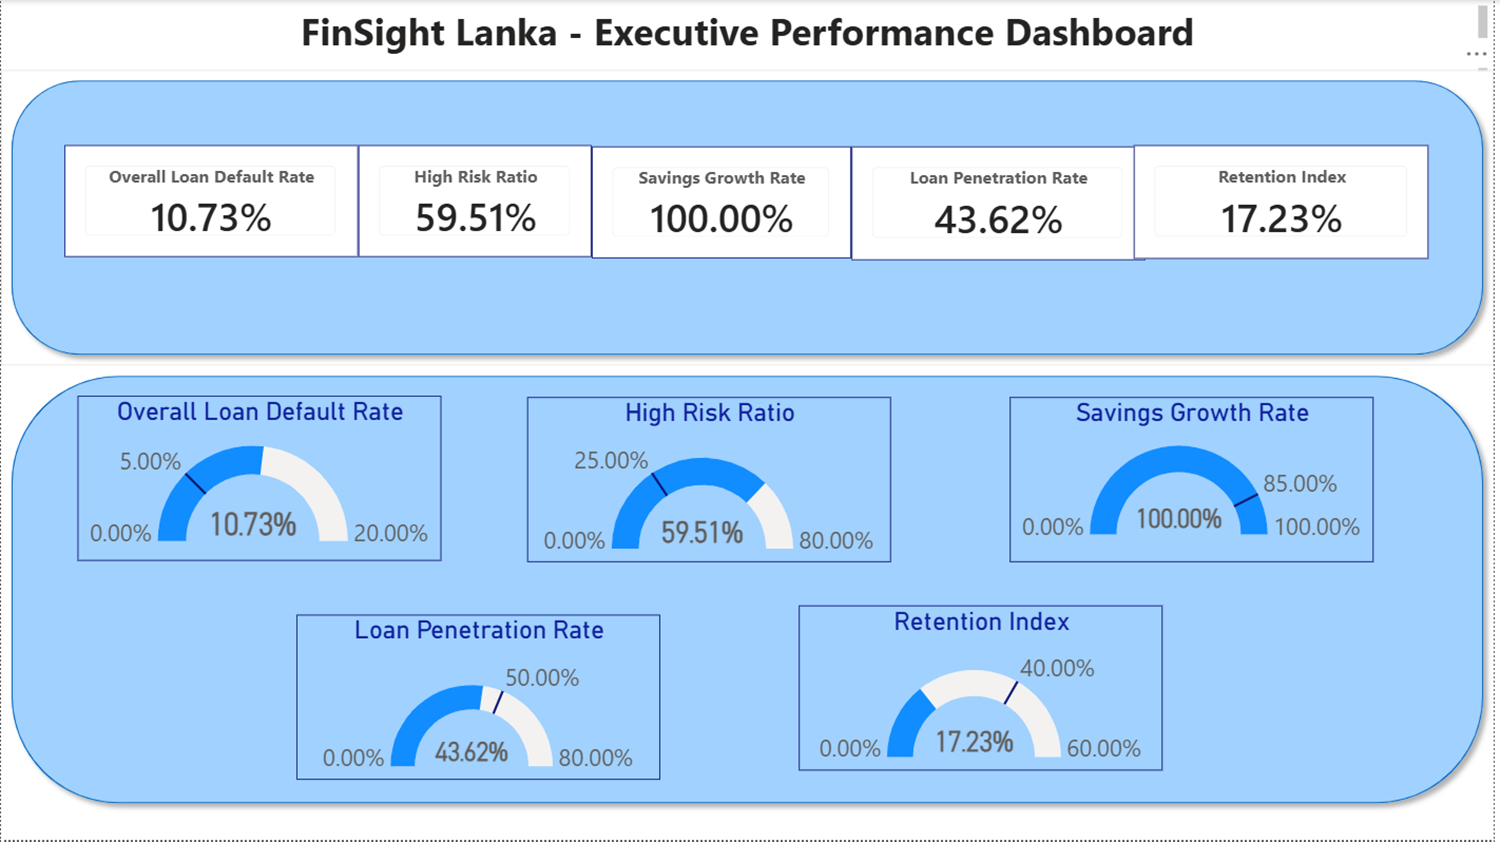

The page's visual inventory and layout, read from the dashboard file:
{"tool":"powerbi","page":{"name":"Executive Summary","canvas":[1280,720],"ordinal":0},"visuals":[{"type":"textbox","box":[9,0,1270.9,67.8],"z":0},{"type":"cardVisual","fields":{"Data":["Cleaned_FinSightLanka_Data.Overall Loan Default Rate"]},"box":[54.3,124.1,251.8,96.2],"z":0,"group":"g2"},{"type":"gauge","fields":{"Y":["Cleaned_FinSightLanka_Data.Overall Loan Default Rate"]},"box":[65.6,339.2,312.1,141.3],"z":0,"group":"g1"},{"type":"cardVisual","fields":{"Data":["Cleaned_FinSightLanka_Data.High Risk Ratio"]},"box":[306.1,124.1,200.4,96.2],"z":1000,"group":"g2"},{"type":"shape","box":[0,313.2,1279.9,384.4],"z":1000},{"type":"gauge","fields":{"Y":["Cleaned_FinSightLanka_Data.High Risk Ratio"]},"box":[451.2,340.3,312.1,141.3],"z":1000,"group":"g1"},{"type":"cardVisual","fields":{"Data":["Cleaned_FinSightLanka_Data.Savings Growth Rate"]},"box":[506.5,125.4,222.8,96.2],"z":2000,"group":"g2"},{"type":"group","id":"g1","title":"Background","box":[65.6,339.2,1113.7,327.9],"z":2000},{"type":"gauge","fields":{"Y":["Cleaned_FinSightLanka_Data.Loan Penetration Rate"]},"box":[253.3,526.9,312.1,141.3],"z":2000,"group":"g1"},{"type":"shape","box":[0,59.9,1279.9,253.3],"z":3000},{"type":"cardVisual","fields":{"Data":["Cleaned_FinSightLanka_Data.Loan Penetration Rate"]},"box":[729.2,125.4,251.8,97.5],"z":3000,"group":"g2"},{"type":"gauge","fields":{"Y":["Cleaned_FinSightLanka_Data.Retention Index"]},"box":[684.1,519,312.1,141.3],"z":3000,"group":"g1"},{"type":"group","id":"g2","title":"head","box":[54.3,124.1,1171.4,99.3],"z":4000},{"type":"cardVisual","fields":{"Data":["Cleaned_FinSightLanka_Data.Retention Index"]},"box":[971.8,124.1,253.1,97.5],"z":4000,"group":"g2"},{"type":"gauge","fields":{"Y":["Cleaned_FinSightLanka_Data.Savings Growth Rate"]},"box":[865,340.3,312.1,141.3],"z":4000,"group":"g1"}]}

Visuals, with their boxes in screenshot pixels (x1, y1, x2, y2), scaled from the page's 1280x720 canvas onto the 1500x842 screenshot:
textbox: Rect(11, 0, 1499, 79)
cardVisual - Cleaned_FinSightLanka_Data.Overall Loan Default Rate: Rect(64, 145, 359, 258)
gauge - Cleaned_FinSightLanka_Data.Overall Loan Default Rate: Rect(77, 397, 443, 562)
cardVisual - Cleaned_FinSightLanka_Data.High Risk Ratio: Rect(359, 145, 594, 258)
shape: Rect(0, 366, 1499, 816)
gauge - Cleaned_FinSightLanka_Data.High Risk Ratio: Rect(529, 398, 894, 563)
cardVisual - Cleaned_FinSightLanka_Data.Savings Growth Rate: Rect(594, 147, 855, 259)
"Background" group: Rect(77, 397, 1382, 780)
gauge - Cleaned_FinSightLanka_Data.Loan Penetration Rate: Rect(297, 616, 663, 781)
shape: Rect(0, 70, 1499, 366)
cardVisual - Cleaned_FinSightLanka_Data.Loan Penetration Rate: Rect(855, 147, 1150, 261)
gauge - Cleaned_FinSightLanka_Data.Retention Index: Rect(802, 607, 1167, 772)
"head" group: Rect(64, 145, 1436, 261)
cardVisual - Cleaned_FinSightLanka_Data.Retention Index: Rect(1139, 145, 1435, 259)
gauge - Cleaned_FinSightLanka_Data.Savings Growth Rate: Rect(1014, 398, 1379, 563)
